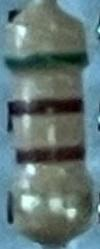Black: (9, 96, 84, 114)
Brown: (15, 142, 85, 166)
Green: (3, 50, 86, 74)
Side-Silver: (16, 181, 92, 215)
